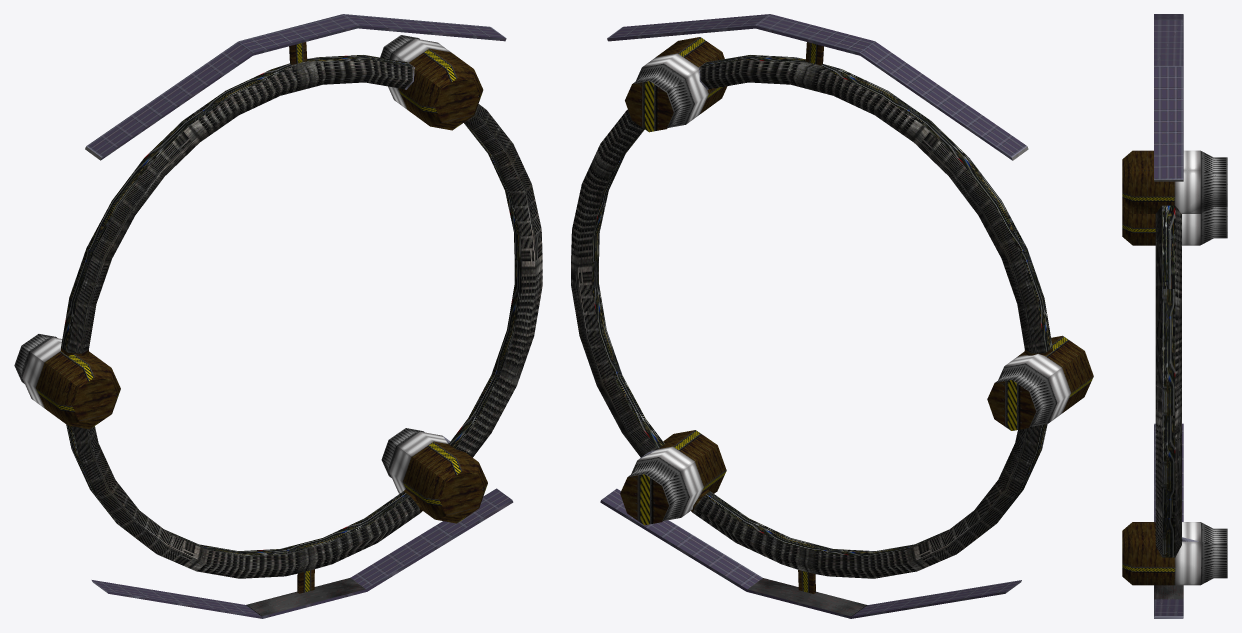
The model's file is gate.fbx.
3 renders of one model, left to right at view 1: azimuth 30°, elevation 25°; view 2: azimuth 150°, elevation 25°; view 3: azimuth 270°, elevation 25°, orthographic. The views are drawn at different scales.
Parts seen in each view (by area): view 1: U3DMesh; view 2: U3DMesh; view 3: U3DMesh.
Boxes of the visible parts, <box> form: U3DMesh: <box>14,14,542,618</box>; U3DMesh: <box>571,14,1093,618</box>; U3DMesh: <box>1122,14,1227,618</box>.
Size of the model in its own units: 64.88 by 70.67 by 12.66.
